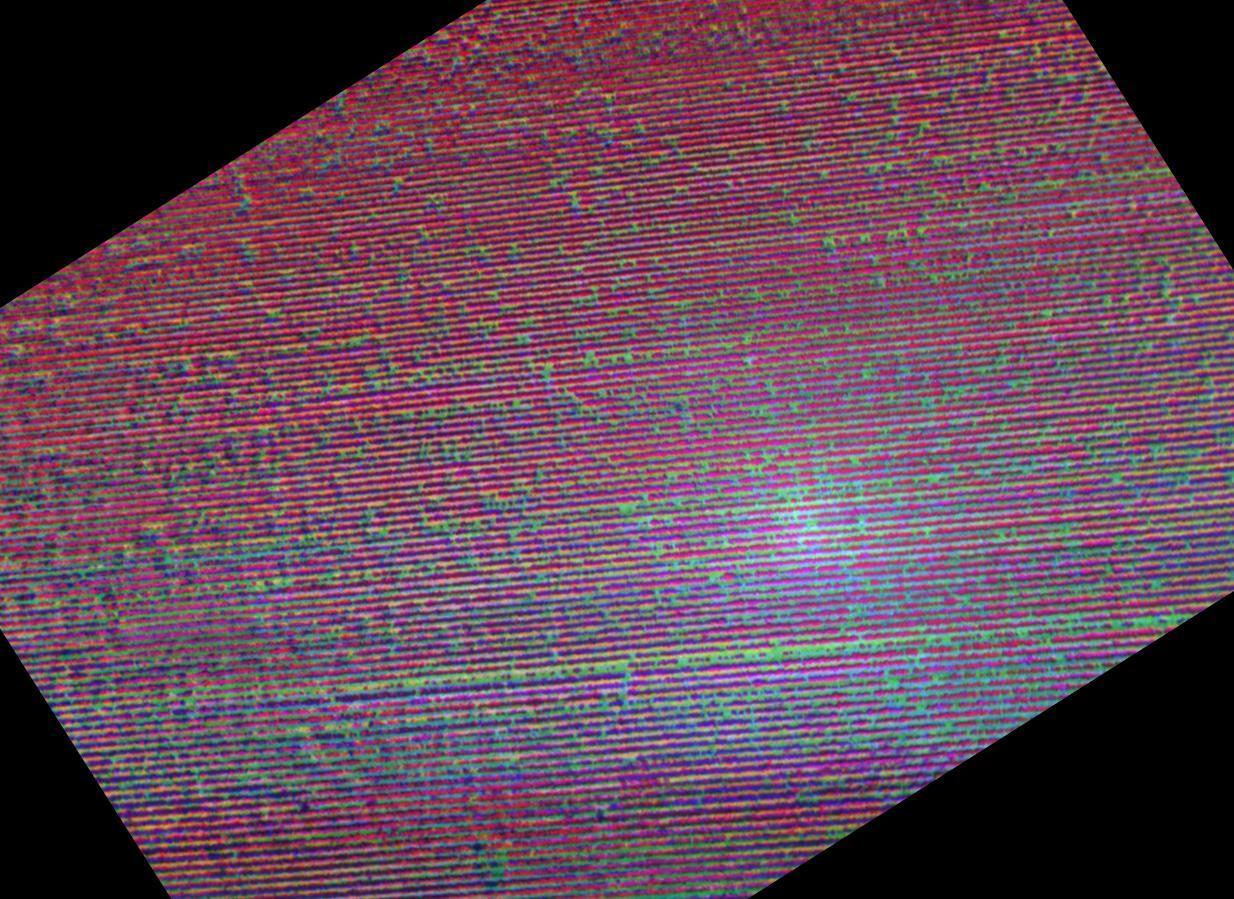dc: (146, 683, 257, 778), (936, 565, 1030, 657), (398, 670, 484, 758), (746, 480, 829, 568), (698, 650, 773, 723)
